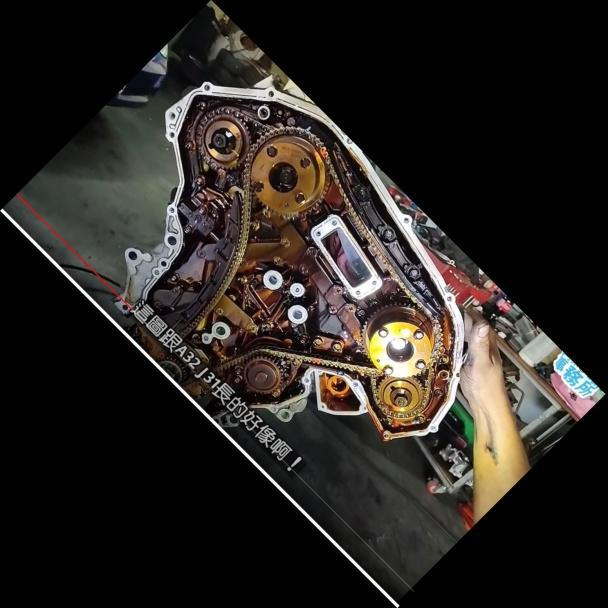hole: (264, 271, 280, 287), (288, 307, 304, 323), (212, 324, 228, 340), (377, 428, 392, 444), (442, 291, 456, 305), (149, 265, 163, 279), (199, 80, 212, 93), (165, 109, 178, 121), (165, 129, 177, 141), (264, 88, 276, 100), (426, 423, 437, 434), (401, 216, 412, 226), (316, 401, 326, 412), (200, 332, 210, 343), (290, 284, 301, 294), (350, 380, 360, 390), (358, 403, 368, 413), (301, 376, 311, 385), (166, 206, 175, 215)
